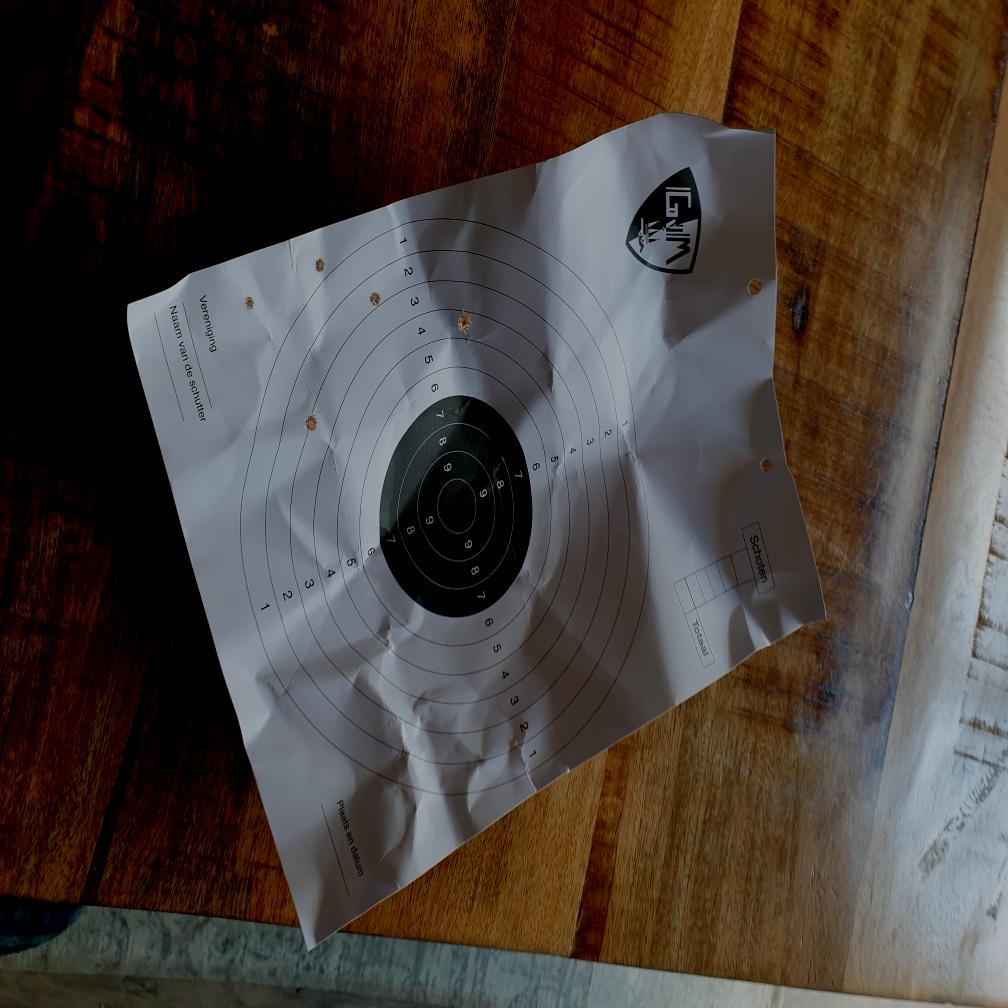0: (312, 258, 325, 275), (244, 296, 254, 311)
2: (367, 290, 382, 307)
3: (303, 412, 317, 433)
4: (459, 309, 472, 335)
Target: (238, 211, 650, 800)
black_contour: (380, 395, 532, 618)
